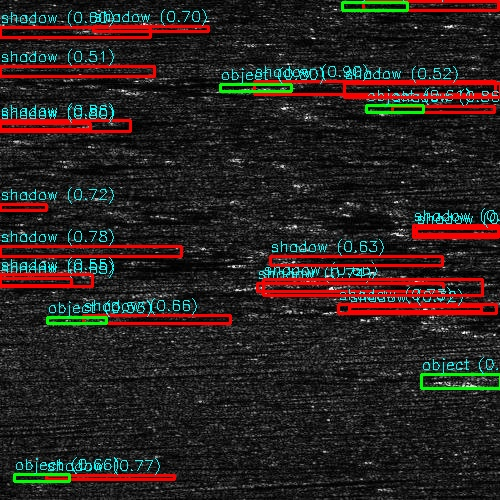rock: (205, 85, 278, 92), (318, 89, 381, 96), (367, 489, 408, 496), (58, 24, 111, 29), (372, 105, 403, 112), (492, 53, 500, 64)
shadow: (242, 85, 500, 92), (350, 89, 500, 96), (0, 123, 95, 132), (388, 105, 500, 112), (0, 65, 85, 74), (85, 24, 186, 29), (377, 4, 494, 7), (388, 489, 438, 496), (0, 280, 101, 283), (0, 223, 27, 226)
